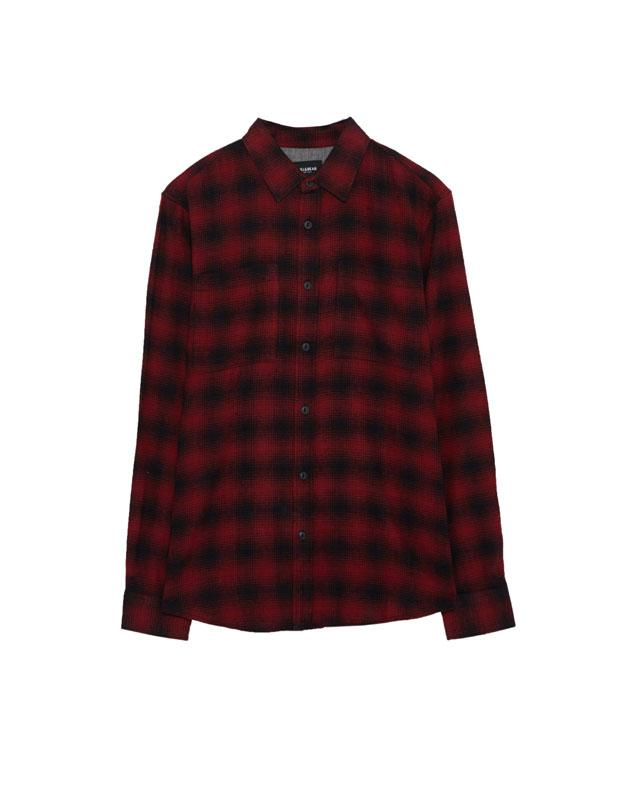teeshirt: (117, 112, 540, 652)
